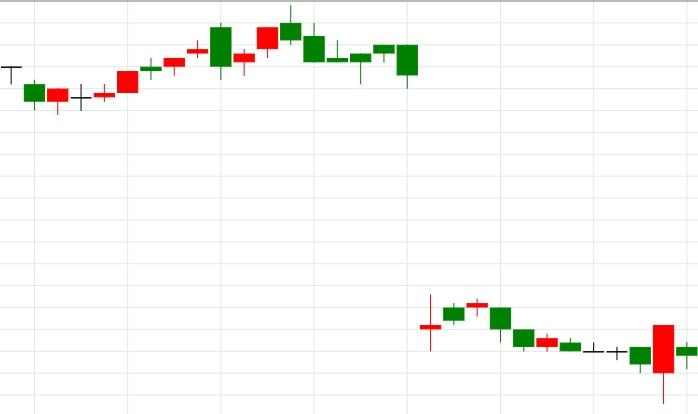bearish_engulfing_fall: (70, 22, 232, 111)
bullish_engulfing_rise: (466, 299, 675, 404)
